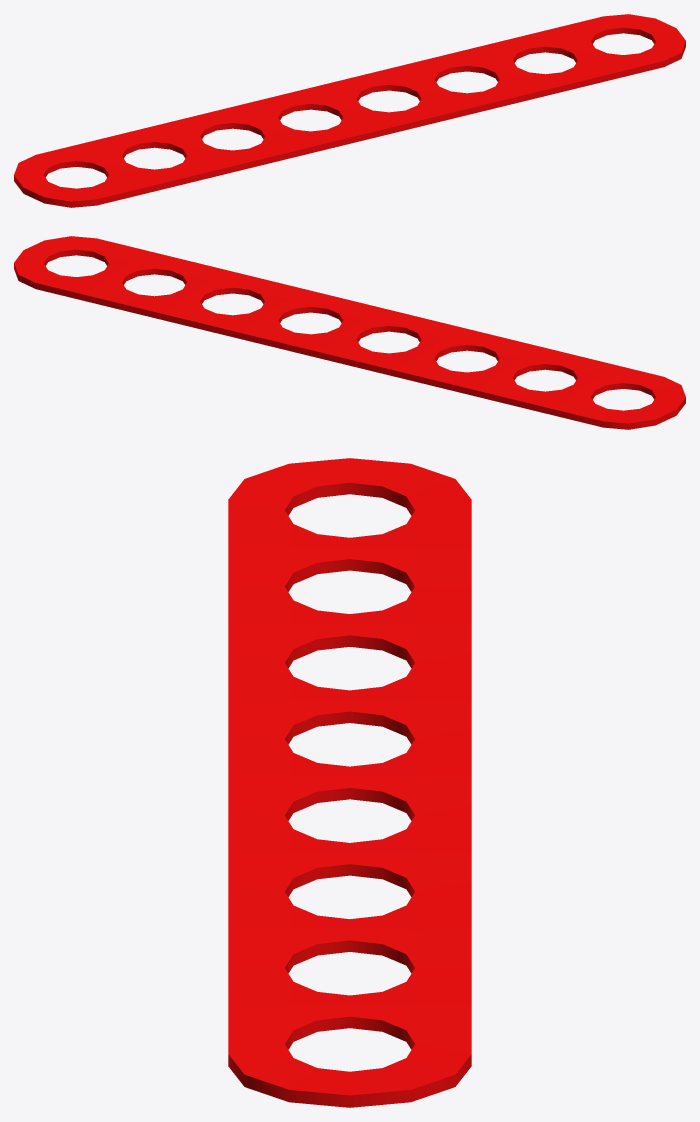
Rendered from EightLongRed.fbx.
The picture shows the model from 3 angles, top to bottom: view 1: azimuth 30°, elevation 25°; view 2: azimuth 150°, elevation 25°; view 3: azimuth 270°, elevation 25°; orthographic projection. The views are drawn at different scales.
Visible parts, largest first — view 1: Blue8; view 2: Blue8; view 3: Blue8.
Part boxes in pixels (x1=…): Blue8: x1=14, y1=14, x2=685, y2=207; Blue8: x1=14, y1=236, x2=685, y2=429; Blue8: x1=228, y1=458, x2=471, y2=1107.
Bounding box in the file's own units: 21.36 × 0.1942 × 3.45.
